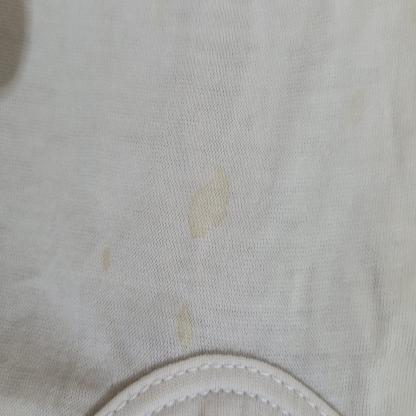spot: (179, 155, 236, 248), (346, 83, 369, 147), (166, 298, 198, 343), (98, 245, 119, 280)
